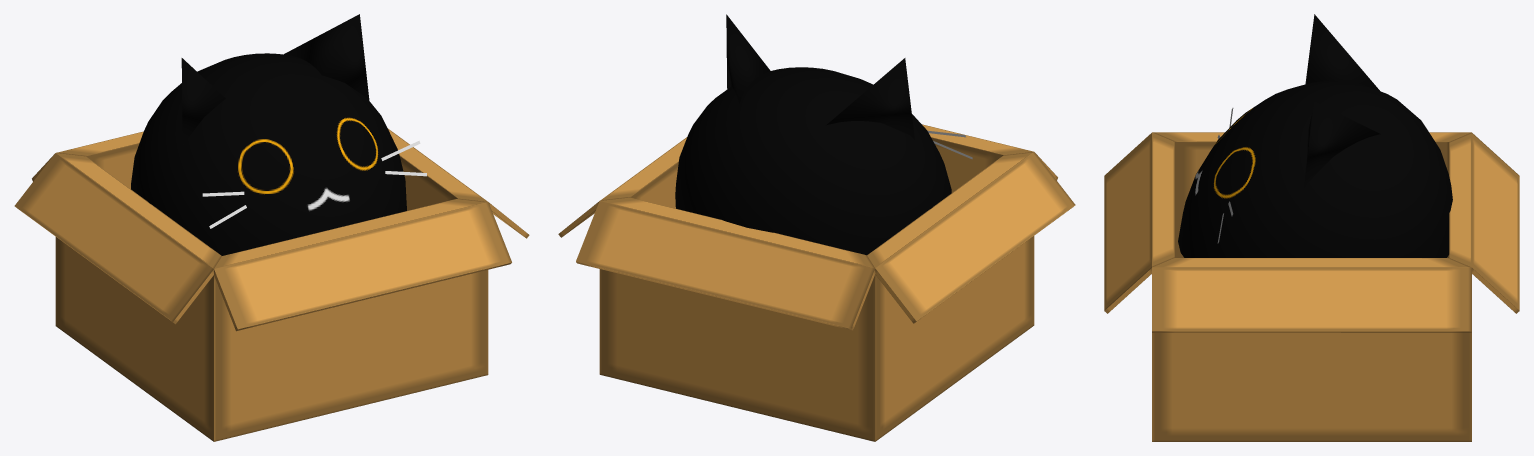
File: neko.glb
3 renders of one model, left to right at view 1: azimuth 30°, elevation 25°; view 2: azimuth 150°, elevation 25°; view 3: azimuth 270°, elevation 25°, orthographic.
Visible parts, largest first — view 1: Neko; view 2: Neko; view 3: Neko.
Part boxes in pixels (box(x1,y1,x2,y2)): Neko: box(14, 14, 529, 441); Neko: box(558, 14, 1075, 441); Neko: box(1104, 14, 1519, 441).
Size of the model in its own units: 2.6 by 2.19 by 2.6.
1 material, 1 textured.
